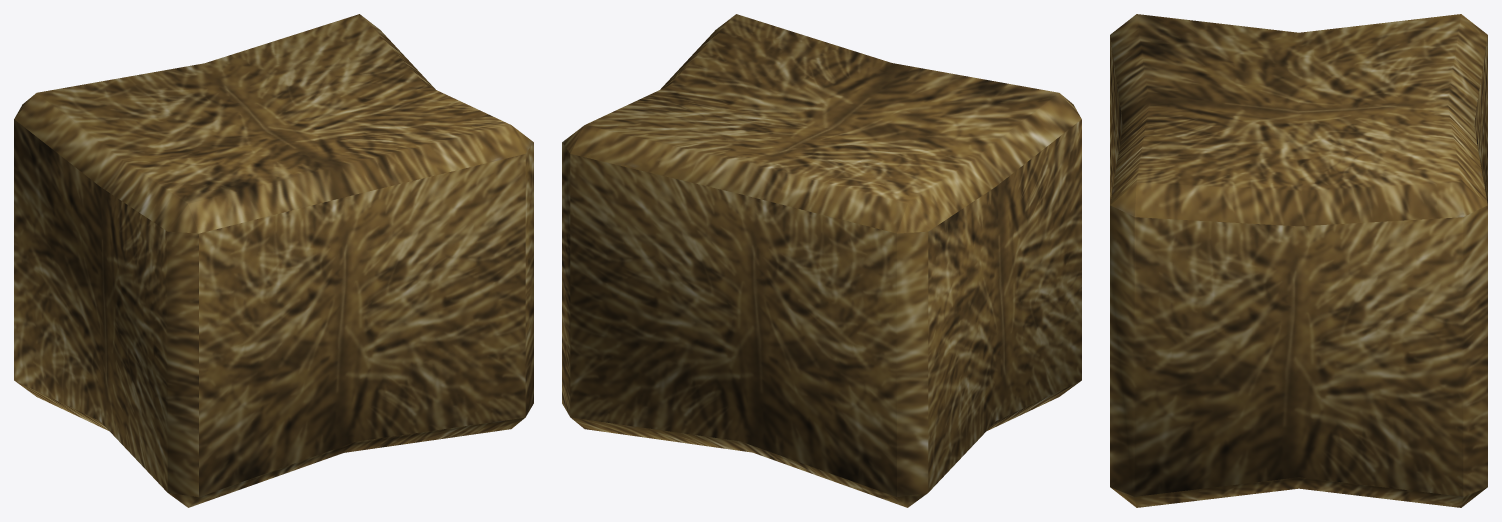
The model's file is jerami.fbx.
3 views of the same model, side by side, from view 1: azimuth 30°, elevation 25°; view 2: azimuth 150°, elevation 25°; view 3: azimuth 270°, elevation 25° (orthographic). The views are drawn at different scales.
Parts seen in each view (by area): view 1: Mesh Object; view 2: Mesh Object; view 3: Mesh Object.
Boxes of the visible parts, box(x1,y1,x2,y2) form: Mesh Object: box(14, 14, 533, 507); Mesh Object: box(562, 14, 1081, 507); Mesh Object: box(1110, 14, 1487, 507).
Size of the model in its own units: 3.32 by 2.64 by 2.77.
